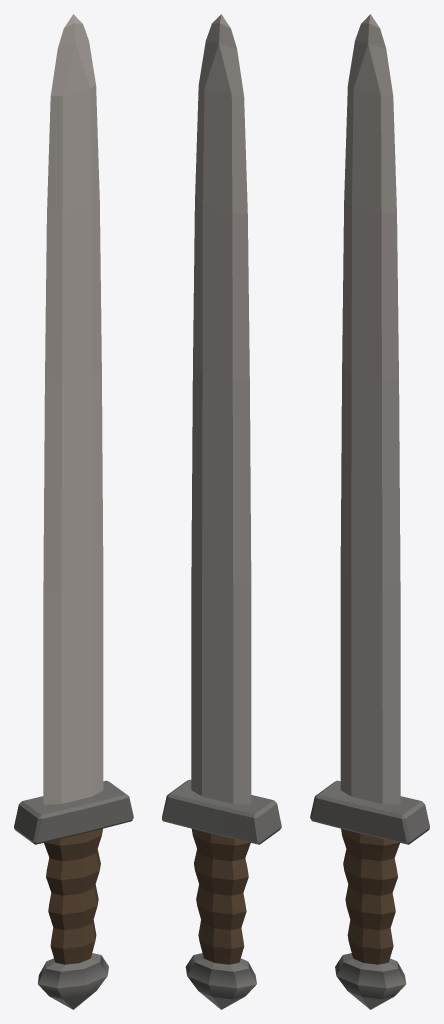
The model's file is SM_pwe_slavic_sword_03.fbx.
3 views of the same model, side by side, from view 1: azimuth 30°, elevation 25°; view 2: azimuth 150°, elevation 25°; view 3: azimuth 330°, elevation 25° (orthographic).
Visible parts, largest first — view 1: SM_pwe_slavic_sword_03; view 2: SM_pwe_slavic_sword_03; view 3: SM_pwe_slavic_sword_03.
Boxes of the visible parts, bbox=[...] form: SM_pwe_slavic_sword_03: bbox=[14, 14, 133, 1009]; SM_pwe_slavic_sword_03: bbox=[162, 14, 281, 1009]; SM_pwe_slavic_sword_03: bbox=[310, 14, 429, 1009].
Bounding box in the file's own units: 9.43 × 89.21 × 4.17.
